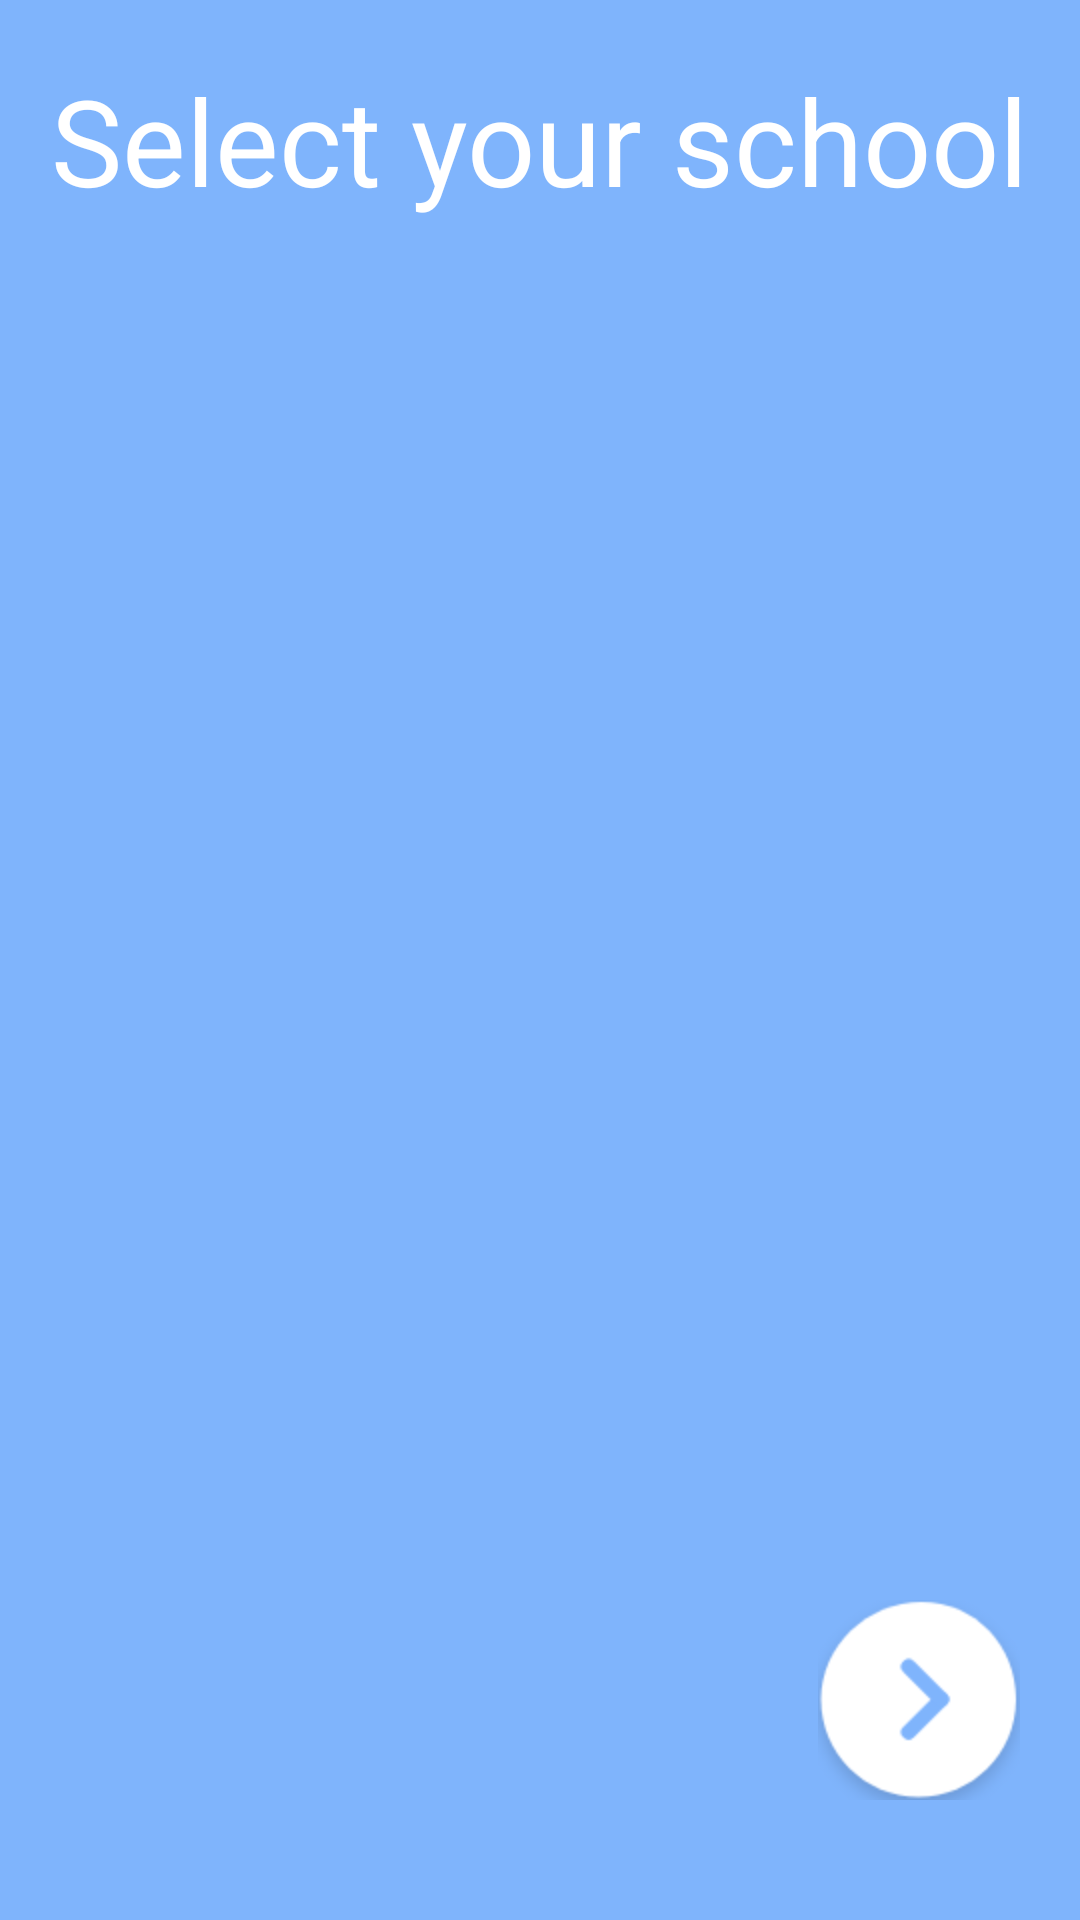

Icons on this 1080×1920 Android screen, each with its box as [x1,y1,x2,y2]:
return right: [820,1601,1017,1800]
